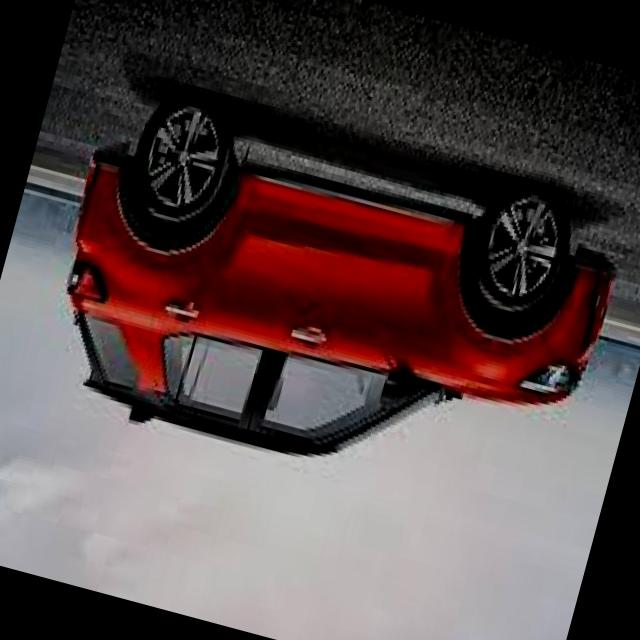PeroduaAtiva: (25, 70, 638, 536)
